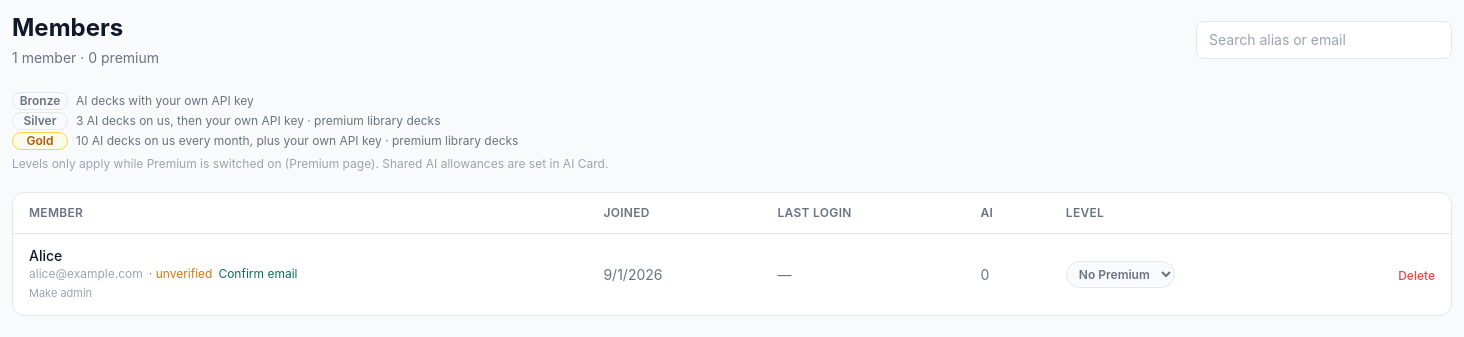
Test case: members page confirms an email and makes an admin
The image size is (1464, 337).
What coordinates should you click on to do the following:
click the button "Make admin"
I would click on:
 (61, 293)
Its box is [29,283,92,303].
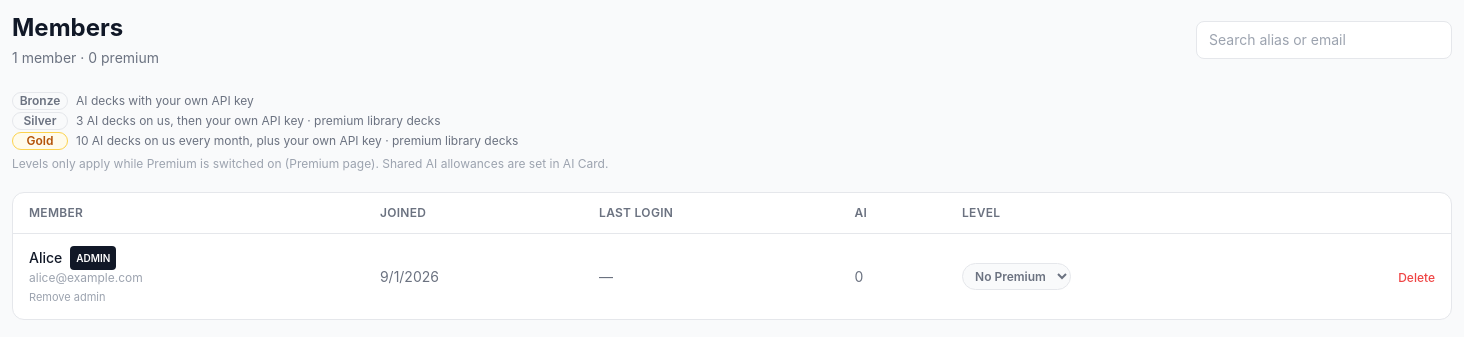
Expected: the button "Remove admin" is shown, [29,287,106,307]
